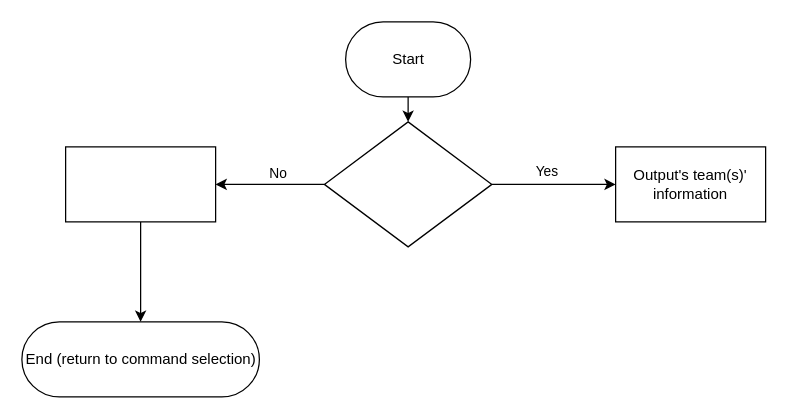
This 788x419 diagram has some shape labels left out. The shapes that lost their labels are listed below. From the top down, each one's centre as x and y in pixels, then its label:
At [140,184]: "Inform the user an invalid response was given.".
At [407,184]: "Request team ID/Name/all. Valid?".
